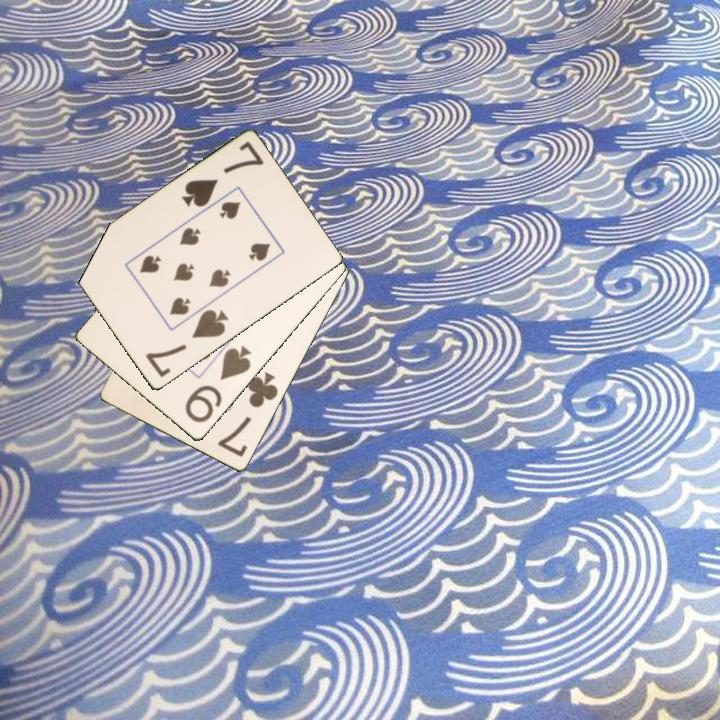7c: (214, 368, 281, 461)
7s: (141, 306, 232, 381), (178, 138, 267, 211)
9s: (181, 342, 255, 426)
